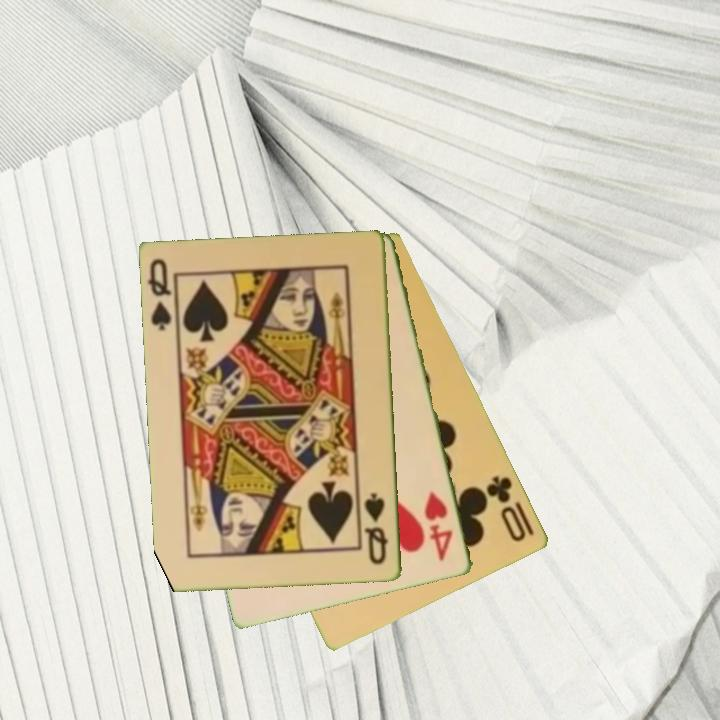10c: (483, 472, 538, 546)
4h: (421, 487, 456, 565)
Qs: (145, 255, 180, 335), (361, 490, 391, 568)
